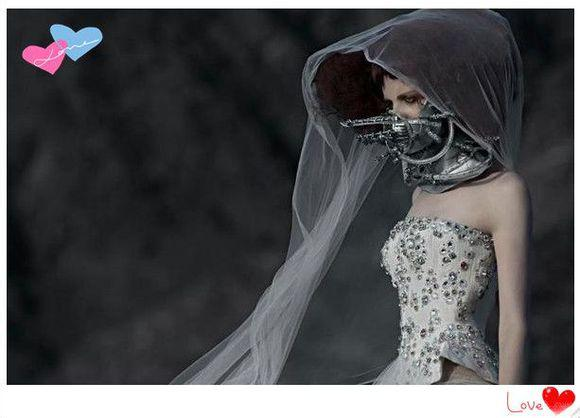WRONG: (381, 89, 443, 151)
